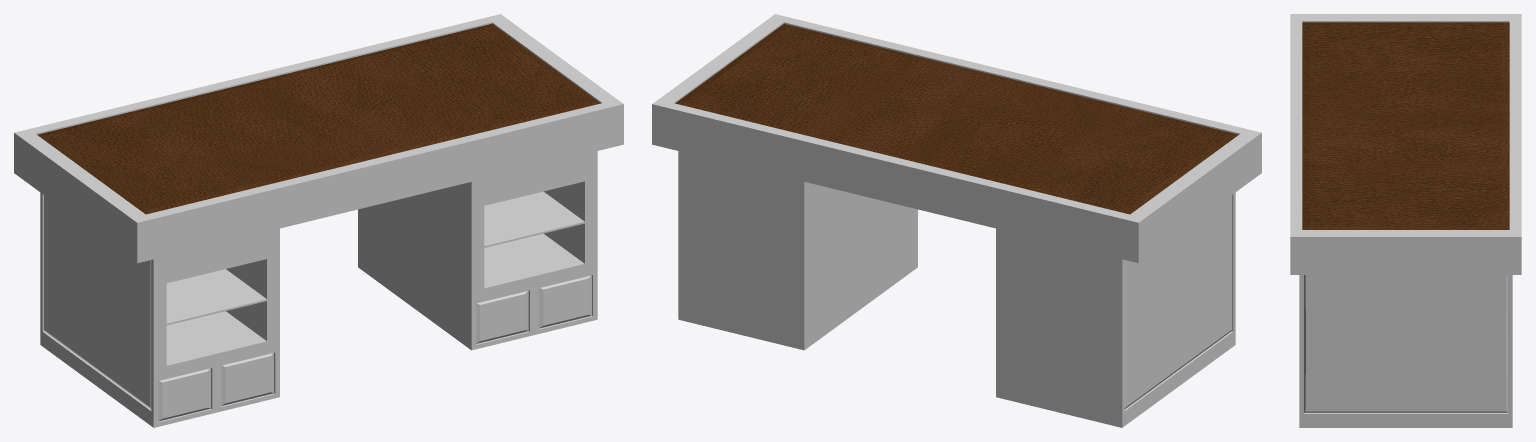
The model's file is Desk.fbx.
3 views of the same model, side by side, from view 1: azimuth 30°, elevation 25°; view 2: azimuth 150°, elevation 25°; view 3: azimuth 270°, elevation 25° (orthographic). The views are drawn at different scales.
Visible parts, largest first — view 1: Desk; view 2: Desk; view 3: Desk.
Part boxes in pixels (left/top/right/bottom): Desk: left=14, top=14, right=623, bottom=427; Desk: left=652, top=14, right=1261, bottom=427; Desk: left=1290, top=14, right=1521, bottom=427.
Bounding box in the file's own units: 398 × 167 × 174.
2 materials, 1 textured.
